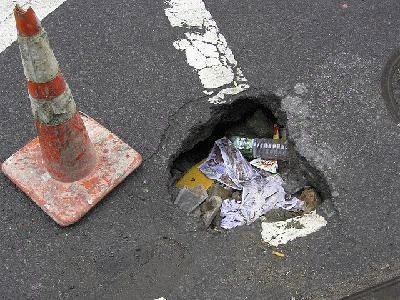pothole: (162, 89, 331, 232)
